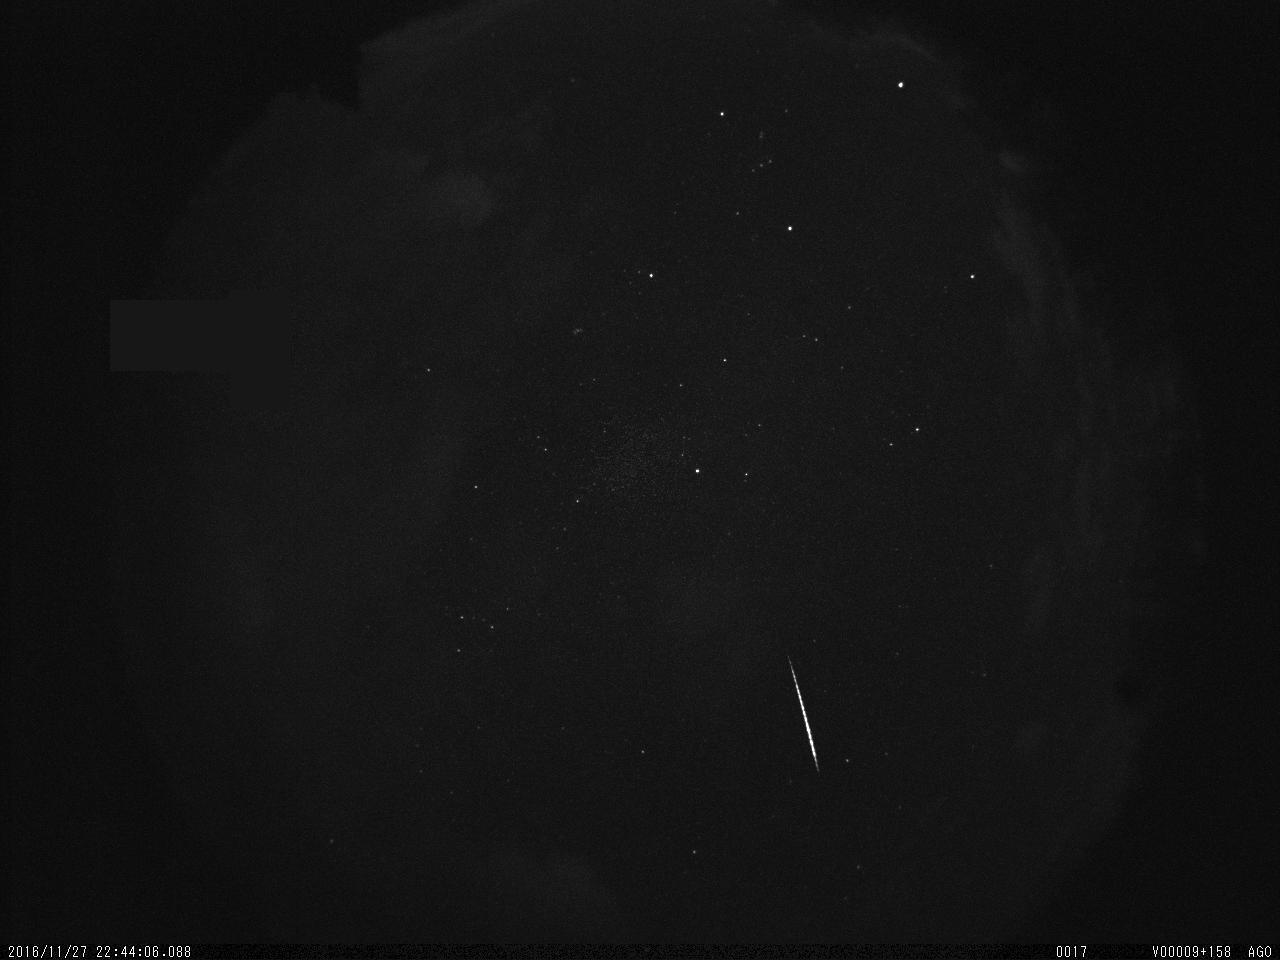meteor: (766, 637, 837, 789)
